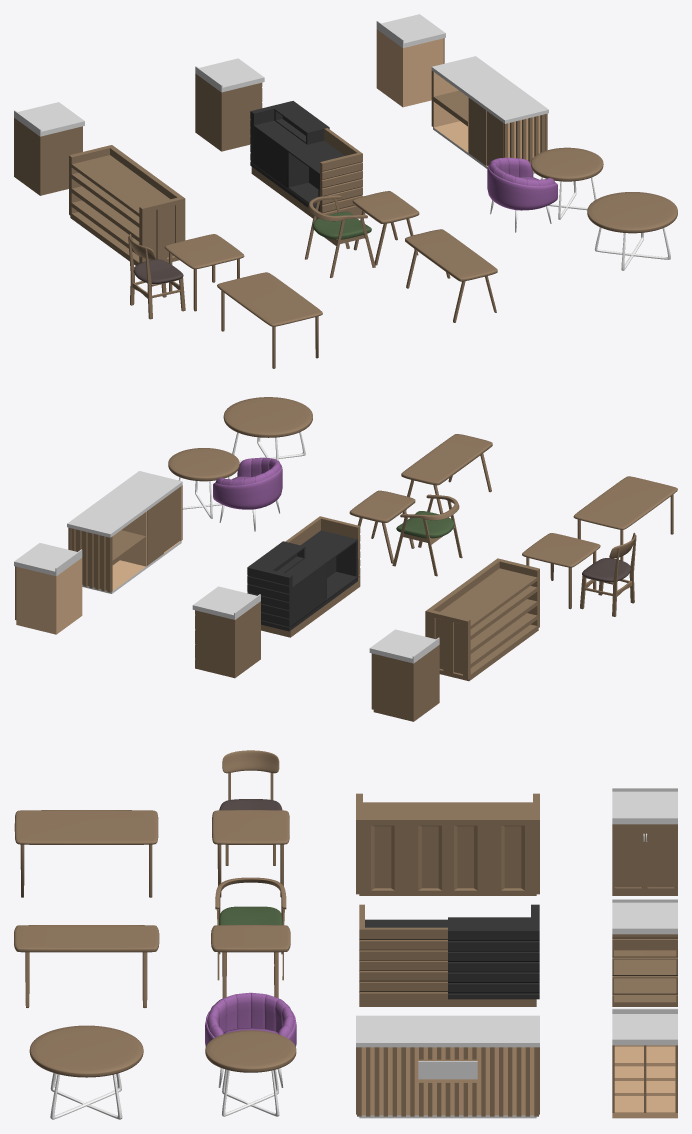
File: Furniture (1).fbx
3 views of the same model, one above another, from view 1: azimuth 30°, elevation 25°; view 2: azimuth 150°, elevation 25°; view 3: azimuth 270°, elevation 25° (orthographic). The views are drawn at different scales.
Parts seen in each view (by area): view 1: CashCounter_Lvl1, CashCounter_Lvl3, CashCounter_Lvl2, Counter_Lvl1, Counter_Lvl3.004, Counter_Lvl2, LongTable_Lvl3, LongTable_Lvl1, Chair_Lvl3, LongTable_Lvl2, ShortTable_Lvl3, Chair_Lvl2 (+3 smaller); view 2: CashCounter_Lvl3, CashCounter_Lvl1, CashCounter_Lvl2, Counter_Lvl1, Counter_Lvl3.004, Counter_Lvl2, LongTable_Lvl1, LongTable_Lvl3, Chair_Lvl3, LongTable_Lvl2, ShortTable_Lvl3, Chair_Lvl2 (+3 smaller); view 3: CashCounter_Lvl3, CashCounter_Lvl1, CashCounter_Lvl2, Counter_Lvl3.004, Counter_Lvl1, Counter_Lvl2, LongTable_Lvl3, LongTable_Lvl1, LongTable_Lvl2, ShortTable_Lvl3, Chair_Lvl3, ShortTable_Lvl1 (+3 smaller).
Boxes of the visible parts, x1=… form: CashCounter_Lvl1: x1=69, y1=145, x2=185, y2=265; CashCounter_Lvl3: x1=431, y1=56, x2=548, y2=173; CashCounter_Lvl2: x1=250, y1=101, x2=362, y2=219; Counter_Lvl1: x1=14, y1=102, x2=84, y2=195; Counter_Lvl3.004: x1=376, y1=14, x2=445, y2=107; Counter_Lvl2: x1=195, y1=58, x2=264, y2=151; LongTable_Lvl3: x1=587, y1=192, x2=677, y2=270; LongTable_Lvl1: x1=217, y1=272, x2=322, y2=368; Chair_Lvl3: x1=487, y1=157, x2=557, y2=232; LongTable_Lvl2: x1=405, y1=229, x2=497, y2=322; ShortTable_Lvl3: x1=531, y1=147, x2=603, y2=219; Chair_Lvl2: x1=305, y1=195, x2=375, y2=277; CashCounter_Lvl3: x1=67, y1=471, x2=182, y2=593; CashCounter_Lvl1: x1=425, y1=558, x2=539, y2=681; CashCounter_Lvl2: x1=247, y1=516, x2=360, y2=637; Counter_Lvl1: x1=369, y1=629, x2=439, y2=721; Counter_Lvl3.004: x1=14, y1=543, x2=82, y2=634; Counter_Lvl2: x1=192, y1=586, x2=260, y2=678; LongTable_Lvl1: x1=573, y1=476, x2=677, y2=560; LongTable_Lvl3: x1=223, y1=397, x2=312, y2=462; Chair_Lvl3: x1=213, y1=457, x2=282, y2=531; LongTable_Lvl2: x1=401, y1=434, x2=492, y2=513; ShortTable_Lvl3: x1=168, y1=448, x2=239, y2=518; Chair_Lvl2: x1=392, y1=494, x2=462, y2=576; CashCounter_Lvl3: x1=356, y1=1015, x2=539, y2=1118; CashCounter_Lvl1: x1=356, y1=793, x2=539, y2=895; CashCounter_Lvl2: x1=359, y1=904, x2=539, y2=1006; Counter_Lvl3.004: x1=612, y1=1008, x2=677, y2=1118; Counter_Lvl1: x1=612, y1=788, x2=677, y2=895; Counter_Lvl2: x1=612, y1=899, x2=677, y2=1006; LongTable_Lvl3: x1=29, y1=1025, x2=143, y2=1119; LongTable_Lvl1: x1=14, y1=810, x2=158, y2=897; LongTable_Lvl2: x1=14, y1=925, x2=159, y2=1007; ShortTable_Lvl3: x1=205, y1=1030, x2=296, y2=1116; Chair_Lvl3: x1=205, y1=992, x2=296, y2=1087; ShortTable_Lvl1: x1=212, y1=810, x2=289, y2=897.
Size of the model in its own units: 1044 by 152 by 1011.
